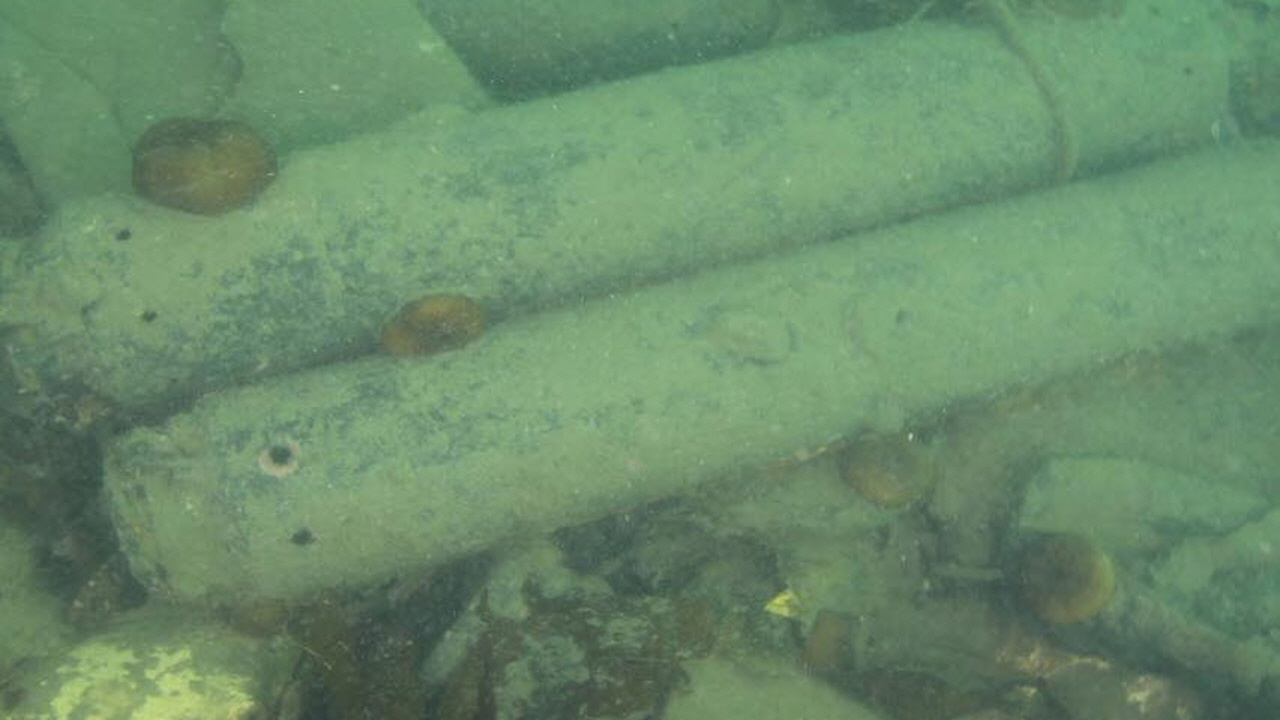eel fish trap: (101, 137, 1280, 611), (0, 0, 1234, 409)
rope: (907, 0, 1085, 190)
